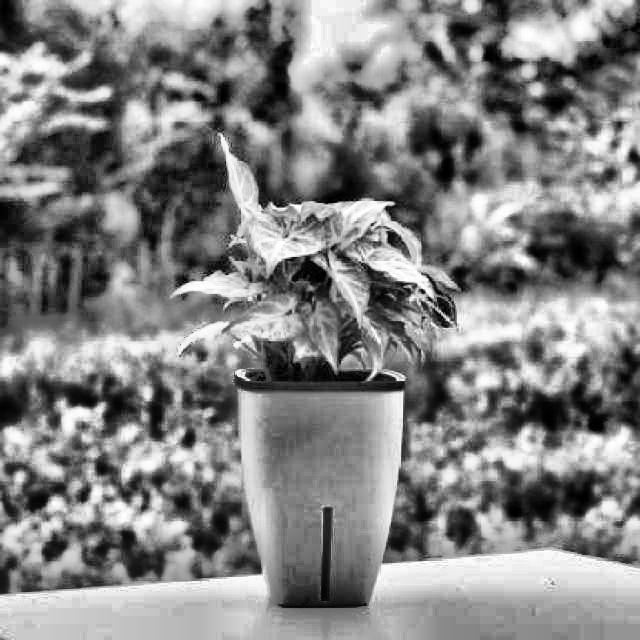plants: (218, 147, 424, 607)
